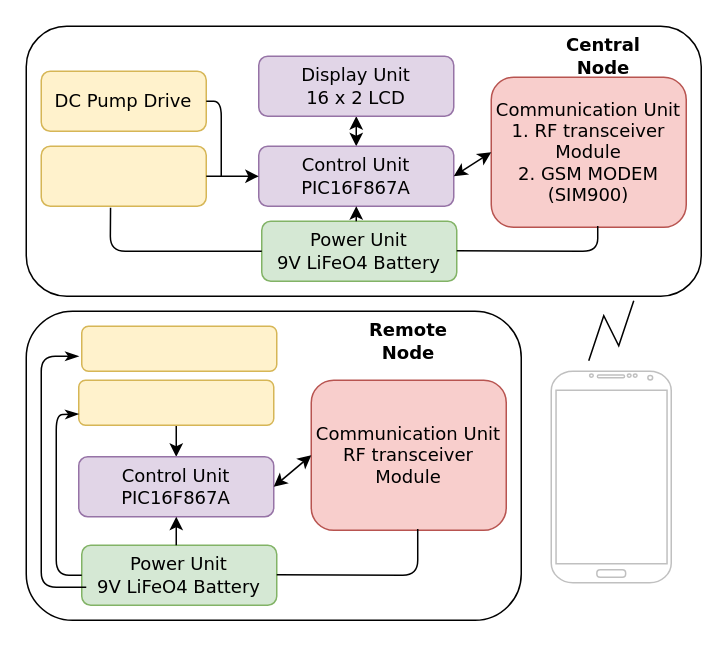
Image size: 728x647. Some labels were removed from this diagram. The shapes that lost their labels are listed below. From the top down, each one's centre as x and y in pixels, then its label:
At (x=123, y=175): "Valve Contol".
At (x=178, y=348): "Water Level Sensor".
At (x=175, y=402): "Valve Control".
At (x=610, y=476): "SMS Status".
